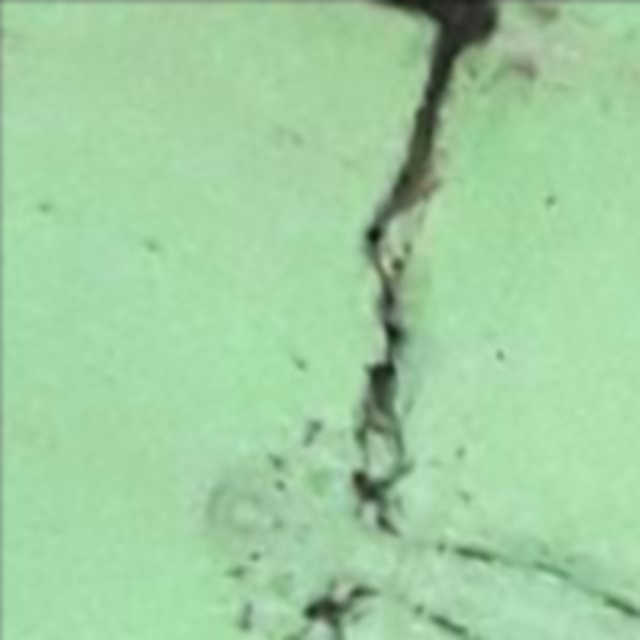SurfaceCrack: (284, 0, 640, 640)
